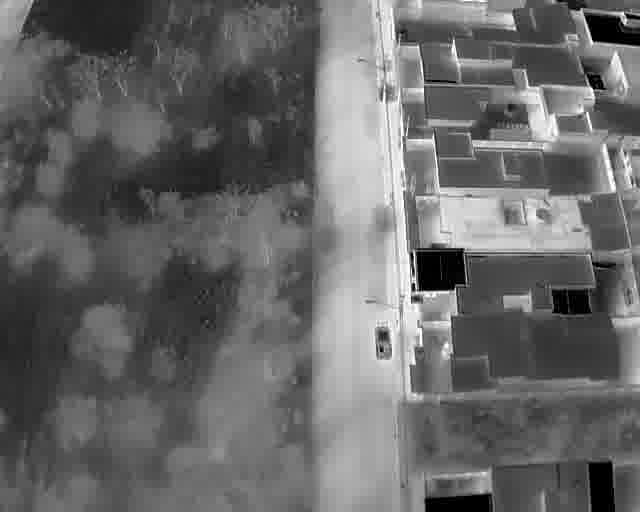car: (374, 325, 392, 361)
